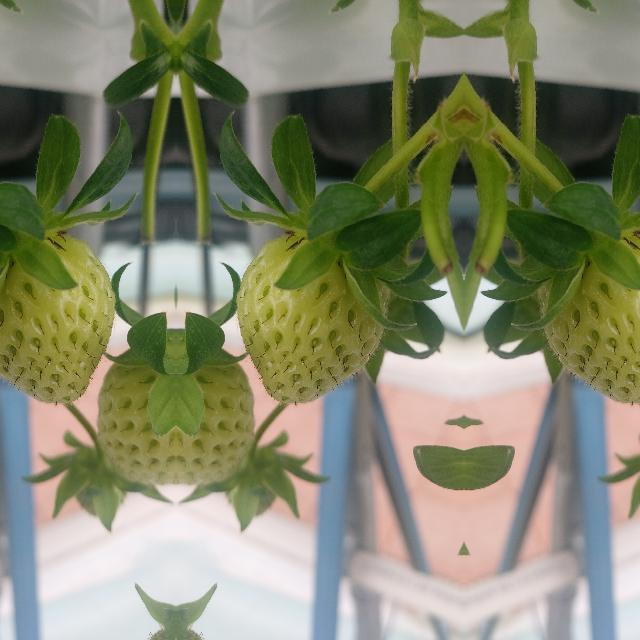Health_25: (236, 235, 384, 402), (0, 235, 114, 402), (541, 235, 640, 402), (175, 326, 255, 486), (95, 326, 175, 486)
